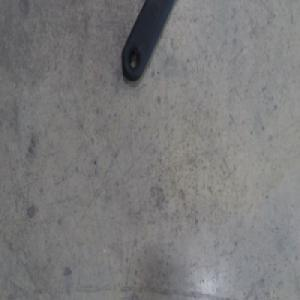AdjustableWrench: (121, 0, 170, 82)
